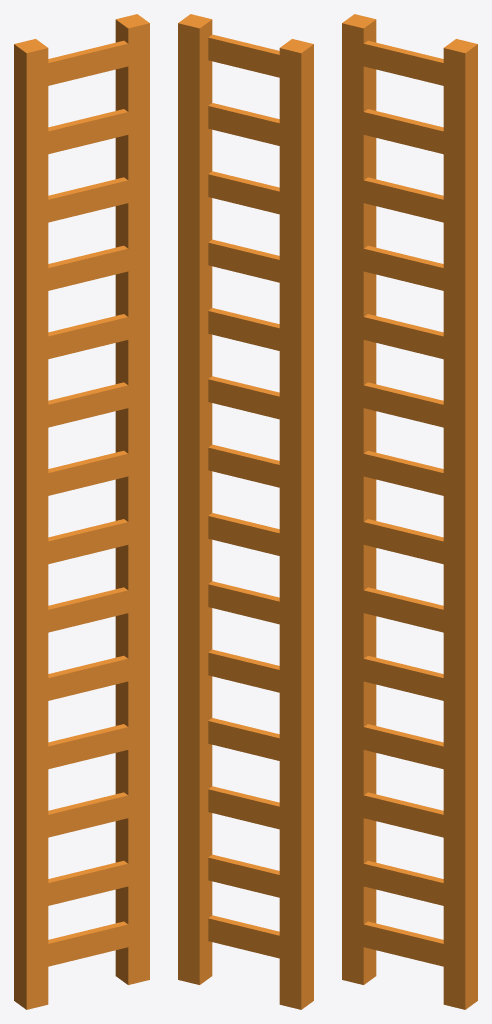
File: Escada.obj
The picture shows the model from 3 angles, left to right: view 1: azimuth 30°, elevation 25°; view 2: azimuth 150°, elevation 25°; view 3: azimuth 330°, elevation 25°; orthographic projection.
Size of the model in its own units: 1.7 by 12.6 by 0.3.
Materials: 1 (1 with a texture image).
